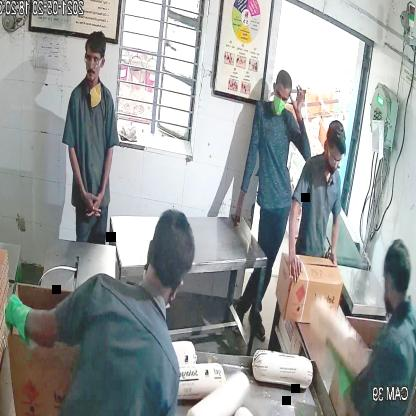goggles: (81, 53, 106, 70), (326, 149, 345, 167)
